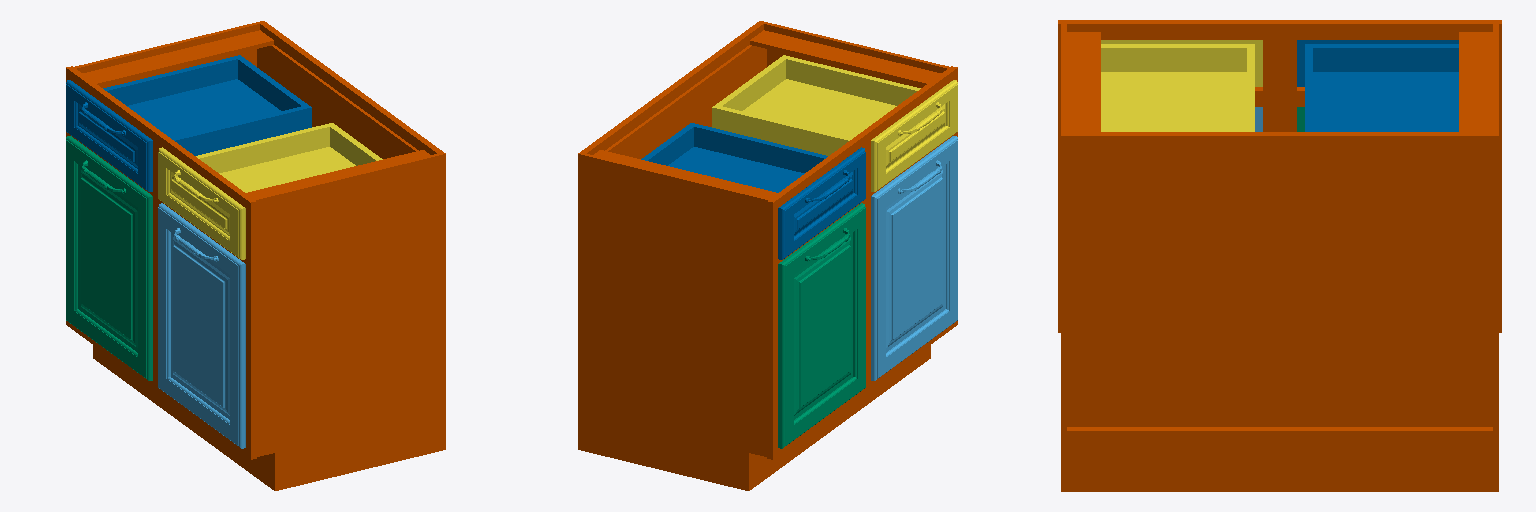
--- What the picture shows (computed from the rendered views, not written in the file) ---
3 views of the same robot in one strip: view 1: azimuth 30°, elevation 25°; view 2: azimuth 150°, elevation 25°; view 3: azimuth 270°, elevation 25° (orthographic).
Model partnet_11ee3844cf96c7194da5feafe6f1c8fc with 6 links and 5 joints (1 revolute, 4 fixed), rooted at base, posed every joint at zero.
Links seen in each view (by area): view 1: link_4, link_3, link_0, link_1, link_2; view 2: link_4, link_2, link_1, link_0, link_3; view 3: link_4, link_2, link_3.
Link boxes in pixels (<box>): link_4: <box>66,21,445,490</box>; link_3: <box>66,55,311,191</box>; link_0: <box>158,203,245,448</box>; link_1: <box>66,136,152,380</box>; link_2: <box>158,123,382,259</box>; link_4: <box>578,21,957,490</box>; link_2: <box>712,55,957,191</box>; link_1: <box>778,203,865,448</box>; link_0: <box>871,136,957,380</box>; link_3: <box>641,123,865,259</box>; link_4: <box>1058,20,1501,491</box>; link_2: <box>1101,40,1262,131</box>; link_3: <box>1297,40,1458,131</box>.
Size in the robot's own frame: 0.9405 by 1.4 by 1.24 metres.
97 mesh visuals loaded from 97 distinct referenced files (97 OBJ).

The robot description file, URDF, robot "partnet_11ee3844cf96c7194da5feafe6f1c8fc":
<?xml version="1.0" ?>
<robot name="partnet_11ee3844cf96c7194da5feafe6f1c8fc">
	<link name="base"/>
	<link name="link_0">
		<visual name="cabinet_door_surface-31">
			<origin xyz="-0.6437806629118026 -0.528850018978119 -0.41145240527491317"/>
			<geometry>
				<mesh filename="textured_objs/original-117.obj"/>
			</geometry>
		</visual>
		<visual name="cabinet_door_surface-31">
			<origin xyz="-0.6437806629118026 -0.528850018978119 -0.41145240527491317"/>
			<geometry>
				<mesh filename="textured_objs/original-113.obj"/>
			</geometry>
		</visual>
		<visual name="cabinet_door_surface-31">
			<origin xyz="-0.6437806629118026 -0.528850018978119 -0.41145240527491317"/>
			<geometry>
				<mesh filename="textured_objs/original-111.obj"/>
			</geometry>
		</visual>
		<visual name="cabinet_door_surface-31">
			<origin xyz="-0.6437806629118026 -0.528850018978119 -0.41145240527491317"/>
			<geometry>
				<mesh filename="textured_objs/original-107.obj"/>
			</geometry>
		</visual>
		<visual name="cabinet_door_surface-31">
			<origin xyz="-0.6437806629118026 -0.528850018978119 -0.41145240527491317"/>
			<geometry>
				<mesh filename="textured_objs/original-108.obj"/>
			</geometry>
		</visual>
		<visual name="cabinet_door_surface-31">
			<origin xyz="-0.6437806629118026 -0.528850018978119 -0.41145240527491317"/>
			<geometry>
				<mesh filename="textured_objs/original-114.obj"/>
			</geometry>
		</visual>
		<visual name="cabinet_door_surface-31">
			<origin xyz="-0.6437806629118026 -0.528850018978119 -0.41145240527491317"/>
			<geometry>
				<mesh filename="textured_objs/original-110.obj"/>
			</geometry>
		</visual>
		<visual name="cabinet_door_surface-31">
			<origin xyz="-0.6437806629118026 -0.528850018978119 -0.41145240527491317"/>
			<geometry>
				<mesh filename="textured_objs/original-112.obj"/>
			</geometry>
		</visual>
		<visual name="cabinet_door_surface-31">
			<origin xyz="-0.6437806629118026 -0.528850018978119 -0.41145240527491317"/>
			<geometry>
				<mesh filename="textured_objs/original-109.obj"/>
			</geometry>
		</visual>
		<visual name="cabinet_door_surface-31">
			<origin xyz="-0.6437806629118026 -0.528850018978119 -0.41145240527491317"/>
			<geometry>
				<mesh filename="textured_objs/original-116.obj"/>
			</geometry>
		</visual>
		<visual name="handle-32">
			<origin xyz="-0.6437806629118026 -0.528850018978119 -0.41145240527491317"/>
			<geometry>
				<mesh filename="textured_objs/original-125.obj"/>
			</geometry>
		</visual>
		<visual name="handle-32">
			<origin xyz="-0.6437806629118026 -0.528850018978119 -0.41145240527491317"/>
			<geometry>
				<mesh filename="textured_objs/original-124.obj"/>
			</geometry>
		</visual>
		<visual name="handle-32">
			<origin xyz="-0.6437806629118026 -0.528850018978119 -0.41145240527491317"/>
			<geometry>
				<mesh filename="textured_objs/original-123.obj"/>
			</geometry>
		</visual>
		<visual name="handle-32">
			<origin xyz="-0.6437806629118026 -0.528850018978119 -0.41145240527491317"/>
			<geometry>
				<mesh filename="textured_objs/original-121.obj"/>
			</geometry>
		</visual>
		<visual name="handle-32">
			<origin xyz="-0.6437806629118026 -0.528850018978119 -0.41145240527491317"/>
			<geometry>
				<mesh filename="textured_objs/original-120.obj"/>
			</geometry>
		</visual>
		<collision>
			<origin xyz="-0.6437806629118026 -0.528850018978119 -0.41145240527491317"/>
			<geometry>
				<mesh filename="textured_objs/original-117.obj"/>
			</geometry>
		</collision>
		<collision>
			<origin xyz="-0.6437806629118026 -0.528850018978119 -0.41145240527491317"/>
			<geometry>
				<mesh filename="textured_objs/original-113.obj"/>
			</geometry>
		</collision>
		<collision>
			<origin xyz="-0.6437806629118026 -0.528850018978119 -0.41145240527491317"/>
			<geometry>
				<mesh filename="textured_objs/original-111.obj"/>
			</geometry>
		</collision>
		<collision>
			<origin xyz="-0.6437806629118026 -0.528850018978119 -0.41145240527491317"/>
			<geometry>
				<mesh filename="textured_objs/original-107.obj"/>
			</geometry>
		</collision>
		<collision>
			<origin xyz="-0.6437806629118026 -0.528850018978119 -0.41145240527491317"/>
			<geometry>
				<mesh filename="textured_objs/original-108.obj"/>
			</geometry>
		</collision>
		<collision>
			<origin xyz="-0.6437806629118026 -0.528850018978119 -0.41145240527491317"/>
			<geometry>
				<mesh filename="textured_objs/original-114.obj"/>
			</geometry>
		</collision>
		<collision>
			<origin xyz="-0.6437806629118026 -0.528850018978119 -0.41145240527491317"/>
			<geometry>
				<mesh filename="textured_objs/original-110.obj"/>
			</geometry>
		</collision>
		<collision>
			<origin xyz="-0.6437806629118026 -0.528850018978119 -0.41145240527491317"/>
			<geometry>
				<mesh filename="textured_objs/original-112.obj"/>
			</geometry>
		</collision>
		<collision>
			<origin xyz="-0.6437806629118026 -0.528850018978119 -0.41145240527491317"/>
			<geometry>
				<mesh filename="textured_objs/original-109.obj"/>
			</geometry>
		</collision>
		<collision>
			<origin xyz="-0.6437806629118026 -0.528850018978119 -0.41145240527491317"/>
			<geometry>
				<mesh filename="textured_objs/original-116.obj"/>
			</geometry>
		</collision>
		<collision>
			<origin xyz="-0.6437806629118026 -0.528850018978119 -0.41145240527491317"/>
			<geometry>
				<mesh filename="textured_objs/original-125.obj"/>
			</geometry>
		</collision>
		<collision>
			<origin xyz="-0.6437806629118026 -0.528850018978119 -0.41145240527491317"/>
			<geometry>
				<mesh filename="textured_objs/original-124.obj"/>
			</geometry>
		</collision>
		<collision>
			<origin xyz="-0.6437806629118026 -0.528850018978119 -0.41145240527491317"/>
			<geometry>
				<mesh filename="textured_objs/original-123.obj"/>
			</geometry>
		</collision>
		<collision>
			<origin xyz="-0.6437806629118026 -0.528850018978119 -0.41145240527491317"/>
			<geometry>
				<mesh filename="textured_objs/original-121.obj"/>
			</geometry>
		</collision>
		<collision>
			<origin xyz="-0.6437806629118026 -0.528850018978119 -0.41145240527491317"/>
			<geometry>
				<mesh filename="textured_objs/original-120.obj"/>
			</geometry>
		</collision>
	</link>
	<joint name="joint_0" type="revolute">
		<origin xyz="0.6437806629118026 0.528850018978119 0.41145240527491317"/>
		<axis xyz="0 1 0"/>
		<child link="link_0"/>
		<parent link="link_4"/>
		<limit lower="0.0" upper="1.5707963267948966"/>
	</joint>
	<link name="link_1">
		<visual name="cabinet_door_surface-29">
			<origin xyz="0.6710703733483504 -0.5288500189781189 -0.4190452834267912"/>
			<geometry>
				<mesh filename="textured_objs/original-96.obj"/>
			</geometry>
		</visual>
		<visual name="cabinet_door_surface-29">
			<origin xyz="0.6710703733483504 -0.5288500189781189 -0.4190452834267912"/>
			<geometry>
				<mesh filename="textured_objs/original-88.obj"/>
			</geometry>
		</visual>
		<visual name="cabinet_door_surface-29">
			<origin xyz="0.6710703733483504 -0.5288500189781189 -0.4190452834267912"/>
			<geometry>
				<mesh filename="textured_objs/original-91.obj"/>
			</geometry>
		</visual>
		<visual name="cabinet_door_surface-29">
			<origin xyz="0.6710703733483504 -0.5288500189781189 -0.4190452834267912"/>
			<geometry>
				<mesh filename="textured_objs/original-93.obj"/>
			</geometry>
		</visual>
		<visual name="cabinet_door_surface-29">
			<origin xyz="0.6710703733483504 -0.5288500189781189 -0.4190452834267912"/>
			<geometry>
				<mesh filename="textured_objs/original-87.obj"/>
			</geometry>
		</visual>
		<visual name="cabinet_door_surface-29">
			<origin xyz="0.6710703733483504 -0.5288500189781189 -0.4190452834267912"/>
			<geometry>
				<mesh filename="textured_objs/original-94.obj"/>
			</geometry>
		</visual>
		<visual name="cabinet_door_surface-29">
			<origin xyz="0.6710703733483504 -0.5288500189781189 -0.4190452834267912"/>
			<geometry>
				<mesh filename="textured_objs/original-92.obj"/>
			</geometry>
		</visual>
		<visual name="cabinet_door_surface-29">
			<origin xyz="0.6710703733483504 -0.5288500189781189 -0.4190452834267912"/>
			<geometry>
				<mesh filename="textured_objs/original-90.obj"/>
			</geometry>
		</visual>
		<visual name="cabinet_door_surface-29">
			<origin xyz="0.6710703733483504 -0.5288500189781189 -0.4190452834267912"/>
			<geometry>
				<mesh filename="textured_objs/original-89.obj"/>
			</geometry>
		</visual>
		<visual name="cabinet_door_surface-29">
			<origin xyz="0.6710703733483504 -0.5288500189781189 -0.4190452834267912"/>
			<geometry>
				<mesh filename="textured_objs/original-97.obj"/>
			</geometry>
		</visual>
		<visual name="handle-30">
			<origin xyz="0.6710703733483504 -0.5288500189781189 -0.4190452834267912"/>
			<geometry>
				<mesh filename="textured_objs/original-105.obj"/>
			</geometry>
		</visual>
		<visual name="handle-30">
			<origin xyz="0.6710703733483504 -0.5288500189781189 -0.4190452834267912"/>
			<geometry>
				<mesh filename="textured_objs/original-101.obj"/>
			</geometry>
		</visual>
		<visual name="handle-30">
			<origin xyz="0.6710703733483504 -0.5288500189781189 -0.4190452834267912"/>
			<geometry>
				<mesh filename="textured_objs/original-100.obj"/>
			</geometry>
		</visual>
		<visual name="handle-30">
			<origin xyz="0.6710703733483504 -0.5288500189781189 -0.4190452834267912"/>
			<geometry>
				<mesh filename="textured_objs/original-104.obj"/>
			</geometry>
		</visual>
		<visual name="handle-30">
			<origin xyz="0.6710703733483504 -0.5288500189781189 -0.4190452834267912"/>
			<geometry>
				<mesh filename="textured_objs/original-103.obj"/>
			</geometry>
		</visual>
		<collision>
			<origin xyz="0.6710703733483504 -0.5288500189781189 -0.4190452834267912"/>
			<geometry>
				<mesh filename="textured_objs/original-96.obj"/>
			</geometry>
		</collision>
		<collision>
			<origin xyz="0.6710703733483504 -0.5288500189781189 -0.4190452834267912"/>
			<geometry>
				<mesh filename="textured_objs/original-88.obj"/>
			</geometry>
		</collision>
		<collision>
			<origin xyz="0.6710703733483504 -0.5288500189781189 -0.4190452834267912"/>
			<geometry>
				<mesh filename="textured_objs/original-91.obj"/>
			</geometry>
		</collision>
		<collision>
			<origin xyz="0.6710703733483504 -0.5288500189781189 -0.4190452834267912"/>
			<geometry>
				<mesh filename="textured_objs/original-93.obj"/>
			</geometry>
		</collision>
		<collision>
			<origin xyz="0.6710703733483504 -0.5288500189781189 -0.4190452834267912"/>
			<geometry>
				<mesh filename="textured_objs/original-87.obj"/>
			</geometry>
		</collision>
		<collision>
			<origin xyz="0.6710703733483504 -0.5288500189781189 -0.4190452834267912"/>
			<geometry>
				<mesh filename="textured_objs/original-94.obj"/>
			</geometry>
		</collision>
		<collision>
			<origin xyz="0.6710703733483504 -0.5288500189781189 -0.4190452834267912"/>
			<geometry>
				<mesh filename="textured_objs/original-92.obj"/>
			</geometry>
		</collision>
		<collision>
			<origin xyz="0.6710703733483504 -0.5288500189781189 -0.4190452834267912"/>
			<geometry>
				<mesh filename="textured_objs/original-90.obj"/>
			</geometry>
		</collision>
		<collision>
			<origin xyz="0.6710703733483504 -0.5288500189781189 -0.4190452834267912"/>
			<geometry>
				<mesh filename="textured_objs/original-89.obj"/>
			</geometry>
		</collision>
		<collision>
			<origin xyz="0.6710703733483504 -0.5288500189781189 -0.4190452834267912"/>
			<geometry>
				<mesh filename="textured_objs/original-97.obj"/>
			</geometry>
		</collision>
		<collision>
			<origin xyz="0.6710703733483504 -0.5288500189781189 -0.4190452834267912"/>
			<geometry>
				<mesh filename="textured_objs/original-105.obj"/>
			</geometry>
		</collision>
		<collision>
			<origin xyz="0.6710703733483504 -0.5288500189781189 -0.4190452834267912"/>
			<geometry>
				<mesh filename="textured_objs/original-101.obj"/>
			</geometry>
		</collision>
		<collision>
			<origin xyz="0.6710703733483504 -0.5288500189781189 -0.4190452834267912"/>
			<geometry>
				<mesh filename="textured_objs/original-100.obj"/>
			</geometry>
		</collision>
		<collision>
			<origin xyz="0.6710703733483504 -0.5288500189781189 -0.4190452834267912"/>
			<geometry>
				<mesh filename="textured_objs/original-104.obj"/>
			</geometry>
		</collision>
		<collision>
			<origin xyz="0.6710703733483504 -0.5288500189781189 -0.4190452834267912"/>
			<geometry>
				<mesh filename="textured_objs/original-103.obj"/>
			</geometry>
		</collision>
	</link>
	<joint name="joint_1" type="fixed">
		<origin xyz="-0.6710703733483504 0.5288500189781189 0.4190452834267912"/>
		<axis xyz="0 -1 0"/>
		<child link="link_1"/>
		<parent link="link_4"/>
		<limit lower="-0.0" upper="1.5707963267948966"/>
	</joint>
	<link name="link_2">
		<visual name="drawer_front-24">
			<origin xyz="-0.3641338292090779 -0.4258260948893341 0.41709399223327637"/>
			<geometry>
				<mesh filename="textured_objs/original-42.obj"/>
			</geometry>
		</visual>
		<visual name="drawer_front-24">
			<origin xyz="-0.3641338292090779 -0.4258260948893341 0.41709399223327637"/>
			<geometry>
				<mesh filename="textured_objs/original-40.obj"/>
			</geometry>
		</visual>
		<visual name="drawer_front-24">
			<origin xyz="-0.3641338292090779 -0.4258260948893341 0.41709399223327637"/>
			<geometry>
				<mesh filename="textured_objs/original-37.obj"/>
			</geometry>
		</visual>
		<visual name="drawer_front-24">
			<origin xyz="-0.3641338292090779 -0.4258260948893341 0.41709399223327637"/>
			<geometry>
				<mesh filename="textured_objs/original-39.obj"/>
			</geometry>
		</visual>
		<visual name="drawer_front-24">
			<origin xyz="-0.3641338292090779 -0.4258260948893341 0.41709399223327637"/>
			<geometry>
				<mesh filename="textured_objs/original-38.obj"/>
			</geometry>
		</visual>
		<visual name="drawer_front-24">
			<origin xyz="-0.3641338292090779 -0.4258260948893341 0.41709399223327637"/>
			<geometry>
				<mesh filename="textured_objs/original-44.obj"/>
			</geometry>
		</visual>
		<visual name="drawer_front-24">
			<origin xyz="-0.3641338292090779 -0.4258260948893341 0.41709399223327637"/>
			<geometry>
				<mesh filename="textured_objs/original-41.obj"/>
			</geometry>
		</visual>
		<visual name="drawer_front-24">
			<origin xyz="-0.3641338292090779 -0.4258260948893341 0.41709399223327637"/>
			<geometry>
				<mesh filename="textured_objs/original-43.obj"/>
			</geometry>
		</visual>
		<visual name="drawer_front-24">
			<origin xyz="-0.3641338292090779 -0.4258260948893341 0.41709399223327637"/>
			<geometry>
				<mesh filename="textured_objs/original-46.obj"/>
			</geometry>
		</visual>
		<visual name="drawer_front-24">
			<origin xyz="-0.3641338292090779 -0.4258260948893341 0.41709399223327637"/>
			<geometry>
				<mesh filename="textured_objs/original-47.obj"/>
			</geometry>
		</visual>
		<visual name="drawer_front-24">
			<origin xyz="-0.3641338292090779 -0.4258260948893341 0.41709399223327637"/>
			<geometry>
				<mesh filename="textured_objs/original-29.obj"/>
			</geometry>
		</visual>
		<visual name="drawer_side-25">
			<origin xyz="-0.3641338292090779 -0.4258260948893341 0.41709399223327637"/>
			<geometry>
				<mesh filename="textured_objs/original-28.obj"/>
			</geometry>
		</visual>
		<visual name="drawer_side-26">
			<origin xyz="-0.3641338292090779 -0.4258260948893341 0.41709399223327637"/>
			<geometry>
				<mesh filename="textured_objs/original-33.obj"/>
			</geometry>
		</visual>
		<visual name="drawer_side-26">
			<origin xyz="-0.3641338292090779 -0.4258260948893341 0.41709399223327637"/>
			<geometry>
				<mesh filename="textured_objs/original-35.obj"/>
			</geometry>
		</visual>
		<visual name="drawer_back-27">
			<origin xyz="-0.3641338292090779 -0.4258260948893341 0.41709399223327637"/>
			<geometry>
				<mesh filename="textured_objs/original-34.obj"/>
			</geometry>
		</visual>
		<visual name="drawer_bottom-28">
			<origin xyz="-0.3641338292090779 -0.4258260948893341 0.41709399223327637"/>
			<geometry>
				<mesh filename="textured_objs/original-32.obj"/>
			</geometry>
		</visual>
		<visual name="drawer_bottom-28">
			<origin xyz="-0.3641338292090779 -0.4258260948893341 0.41709399223327637"/>
			<geometry>
				<mesh filename="textured_objs/original-31.obj"/>
			</geometry>
		</visual>
		<visual name="handle-23">
			<origin xyz="-0.3641338292090779 -0.4258260948893341 0.41709399223327637"/>
			<geometry>
				<mesh filename="textured_objs/original-55.obj"/>
			</geometry>
		</visual>
		<visual name="handle-23">
			<origin xyz="-0.3641338292090779 -0.4258260948893341 0.41709399223327637"/>
			<geometry>
				<mesh filename="textured_objs/original-51.obj"/>
			</geometry>
		</visual>
		<visual name="handle-23">
			<origin xyz="-0.3641338292090779 -0.4258260948893341 0.41709399223327637"/>
			<geometry>
				<mesh filename="textured_objs/original-50.obj"/>
			</geometry>
		</visual>
		<visual name="handle-23">
			<origin xyz="-0.3641338292090779 -0.4258260948893341 0.41709399223327637"/>
			<geometry>
				<mesh filename="textured_objs/original-54.obj"/>
			</geometry>
		</visual>
		<visual name="handle-23">
			<origin xyz="-0.3641338292090779 -0.4258260948893341 0.41709399223327637"/>
			<geometry>
				<mesh filename="textured_objs/original-53.obj"/>
			</geometry>
		</visual>
		<collision>
			<origin xyz="-0.3641338292090779 -0.4258260948893341 0.41709399223327637"/>
			<geometry>
				<mesh filename="textured_objs/original-42.obj"/>
			</geometry>
		</collision>
		<collision>
			<origin xyz="-0.3641338292090779 -0.4258260948893341 0.41709399223327637"/>
			<geometry>
				<mesh filename="textured_objs/original-40.obj"/>
			</geometry>
		</collision>
		<collision>
			<origin xyz="-0.3641338292090779 -0.4258260948893341 0.41709399223327637"/>
			<geometry>
				<mesh filename="textured_objs/original-37.obj"/>
			</geometry>
		</collision>
		<collision>
			<origin xyz="-0.3641338292090779 -0.4258260948893341 0.41709399223327637"/>
			<geometry>
				<mesh filename="textured_objs/original-39.obj"/>
			</geometry>
		</collision>
		<collision>
			<origin xyz="-0.3641338292090779 -0.4258260948893341 0.41709399223327637"/>
			<geometry>
				<mesh filename="textured_objs/original-38.obj"/>
			</geometry>
		</collision>
		<collision>
			<origin xyz="-0.3641338292090779 -0.4258260948893341 0.41709399223327637"/>
			<geometry>
				<mesh filename="textured_objs/original-44.obj"/>
			</geometry>
		</collision>
		<collision>
			<origin xyz="-0.3641338292090779 -0.4258260948893341 0.41709399223327637"/>
			<geometry>
				<mesh filename="textured_objs/original-41.obj"/>
			</geometry>
		</collision>
		<collision>
			<origin xyz="-0.3641338292090779 -0.4258260948893341 0.41709399223327637"/>
			<geometry>
				<mesh filename="textured_objs/original-43.obj"/>
			</geometry>
		</collision>
		<collision>
			<origin xyz="-0.3641338292090779 -0.4258260948893341 0.41709399223327637"/>
			<geometry>
				<mesh filename="textured_objs/original-46.obj"/>
			</geometry>
		</collision>
		<collision>
			<origin xyz="-0.3641338292090779 -0.4258260948893341 0.41709399223327637"/>
			<geometry>
				<mesh filename="textured_objs/original-47.obj"/>
			</geometry>
		</collision>
		<collision>
			<origin xyz="-0.3641338292090779 -0.4258260948893341 0.41709399223327637"/>
			<geometry>
				<mesh filename="textured_objs/original-29.obj"/>
			</geometry>
		</collision>
		<collision>
			<origin xyz="-0.3641338292090779 -0.4258260948893341 0.41709399223327637"/>
			<geometry>
				<mesh filename="textured_objs/original-28.obj"/>
			</geometry>
		</collision>
		<collision>
			<origin xyz="-0.3641338292090779 -0.4258260948893341 0.41709399223327637"/>
			<geometry>
				<mesh filename="textured_objs/original-33.obj"/>
			</geometry>
		</collision>
		<collision>
			<origin xyz="-0.3641338292090779 -0.4258260948893341 0.41709399223327637"/>
			<geometry>
				<mesh filename="textured_objs/original-35.obj"/>
			</geometry>
		</collision>
		<collision>
			<origin xyz="-0.3641338292090779 -0.4258260948893341 0.41709399223327637"/>
			<geometry>
				<mesh filename="textured_objs/original-34.obj"/>
			</geometry>
		</collision>
		<collision>
			<origin xyz="-0.3641338292090779 -0.4258260948893341 0.41709399223327637"/>
			<geometry>
				<mesh filename="textured_objs/original-32.obj"/>
			</geometry>
		</collision>
		<collision>
			<origin xyz="-0.3641338292090779 -0.4258260948893341 0.41709399223327637"/>
			<geometry>
				<mesh filename="textured_objs/original-31.obj"/>
			</geometry>
		</collision>
		<collision>
			<origin xyz="-0.3641338292090779 -0.4258260948893341 0.41709399223327637"/>
			<geometry>
				<mesh filename="textured_objs/original-55.obj"/>
			</geometry>
		</collision>
		<collision>
			<origin xyz="-0.3641338292090779 -0.4258260948893341 0.41709399223327637"/>
			<geometry>
				<mesh filename="textured_objs/original-51.obj"/>
			</geometry>
		</collision>
		<collision>
			<origin xyz="-0.3641338292090779 -0.4258260948893341 0.41709399223327637"/>
			<geometry>
				<mesh filename="textured_objs/original-50.obj"/>
			</geometry>
		</collision>
		<collision>
			<origin xyz="-0.3641338292090779 -0.4258260948893341 0.41709399223327637"/>
			<geometry>
				<mesh filename="textured_objs/original-54.obj"/>
			</geometry>
		</collision>
		<collision>
			<origin xyz="-0.3641338292090779 -0.4258260948893341 0.41709399223327637"/>
			<geometry>
				<mesh filename="textured_objs/original-53.obj"/>
			</geometry>
		</collision>
	</link>
	<joint name="joint_2" type="fixed">
		<origin xyz="0.3641338292090779 0.4258260948893341 -0.41709399223327637"/>
		<axis xyz="0 0 1"/>
		<child link="link_2"/>
		<parent link="link_4"/>
		<limit lower="0" upper="0.6400000000000001"/>
	</joint>
	<link name="link_3">
		<visual name="drawer_front-17">
			<origin xyz="0.35450746886792467 -0.3970021093508832 0.4170939922332757"/>
			<geometry>
				<mesh filename="textured_objs/original-59.obj"/>
			</geometry>
		</visual>
		<visual name="drawer_front-17">
			<origin xyz="0.35450746886792467 -0.3970021093508832 0.4170939922332757"/>
			<geometry>
				<mesh filename="textured_objs/original-71.obj"/>
			</geometry>
		</visual>
		<visual name="drawer_front-17">
			<origin xyz="0.35450746886792467 -0.3970021093508832 0.4170939922332757"/>
			<geometry>
				<mesh filename="textured_objs/original-68.obj"/>
			</geometry>
		</visual>
		<visual name="drawer_front-17">
			<origin xyz="0.35450746886792467 -0.3970021093508832 0.4170939922332757"/>
			<geometry>
				<mesh filename="textured_objs/original-67.obj"/>
			</geometry>
		</visual>
		<visual name="drawer_front-17">
			<origin xyz="0.35450746886792467 -0.3970021093508832 0.4170939922332757"/>
			<geometry>
				<mesh filename="textured_objs/original-70.obj"/>
			</geometry>
		</visual>
		<visual name="drawer_front-17">
			<origin xyz="0.35450746886792467 -0.3970021093508832 0.4170939922332757"/>
			<geometry>
				<mesh filename="textured_objs/original-73.obj"/>
			</geometry>
		</visual>
		<visual name="drawer_front-17">
			<origin xyz="0.35450746886792467 -0.3970021093508832 0.4170939922332757"/>
			<geometry>
				<mesh filename="textured_objs/original-72.obj"/>
			</geometry>
		</visual>
		<visual name="drawer_front-17">
			<origin xyz="0.35450746886792467 -0.3970021093508832 0.4170939922332757"/>
			<geometry>
				<mesh filename="textured_objs/original-69.obj"/>
			</geometry>
		</visual>
		<visual name="drawer_front-17">
			<origin xyz="0.35450746886792467 -0.3970021093508832 0.4170939922332757"/>
			<geometry>
				<mesh filename="textured_objs/original-74.obj"/>
			</geometry>
		</visual>
		<visual name="drawer_front-17">
			<origin xyz="0.35450746886792467 -0.3970021093508832 0.4170939922332757"/>
			<geometry>
				<mesh filename="textured_objs/original-76.obj"/>
			</geometry>
		</visual>
		<visual name="drawer_front-17">
			<origin xyz="0.35450746886792467 -0.3970021093508832 0.4170939922332757"/>
			<geometry>
				<mesh filename="textured_objs/original-77.obj"/>
			</geometry>
		</visual>
		<visual name="drawer_side-18">
			<origin xyz="0.35450746886792467 -0.3970021093508832 0.4170939922332757"/>
			<geometry>
				<mesh filename="textured_objs/original-58.obj"/>
			</geometry>
		</visual>
		<visual name="drawer_side-19">
			<origin xyz="0.35450746886792467 -0.3970021093508832 0.4170939922332757"/>
			<geometry>
				<mesh filename="textured_objs/original-63.obj"/>
			</geometry>
		</visual>
		<visual name="drawer_side-19">
			<origin xyz="0.35450746886792467 -0.3970021093508832 0.4170939922332757"/>
			<geometry>
				<mesh filename="textured_objs/original-65.obj"/>
			</geometry>
		</visual>
		<visual name="drawer_back-20">
			<origin xyz="0.35450746886792467 -0.3970021093508832 0.4170939922332757"/>
			<geometry>
				<mesh filename="textured_objs/original-64.obj"/>
			</geometry>
		</visual>
		<visual name="drawer_bottom-21">
			<origin xyz="0.35450746886792467 -0.3970021093508832 0.4170939922332757"/>
			<geometry>
				<mesh filename="textured_objs/original-62.obj"/>
			</geometry>
		</visual>
		<visual name="drawer_bottom-21">
			<origin xyz="0.35450746886792467 -0.3970021093508832 0.4170939922332757"/>
			<geometry>
				<mesh filename="textured_objs/original-61.obj"/>
			</geometry>
		</visual>
		<visual name="handle-16">
			<origin xyz="0.35450746886792467 -0.3970021093508832 0.4170939922332757"/>
			<geometry>
				<mesh filename="textured_objs/original-85.obj"/>
			</geometry>
		</visual>
		<visual name="handle-16">
			<origin xyz="0.35450746886792467 -0.3970021093508832 0.4170939922332757"/>
			<geometry>
				<mesh filename="textured_objs/original-84.obj"/>
			</geometry>
		</visual>
		<visual name="handle-16">
			<origin xyz="0.35450746886792467 -0.3970021093508832 0.4170939922332757"/>
			<geometry>
				<mesh filename="textured_objs/original-83.obj"/>
			</geometry>
		</visual>
		<visual name="handle-16">
			<origin xyz="0.35450746886792467 -0.3970021093508832 0.4170939922332757"/>
			<geometry>
				<mesh filename="textured_objs/original-81.obj"/>
			</geometry>
		</visual>
		<visual name="handle-16">
			<origin xyz="0.35450746886792467 -0.3970021093508832 0.4170939922332757"/>
			<geometry>
				<mesh filename="textured_objs/original-80.obj"/>
			</geometry>
		</visual>
		<collision>
			<origin xyz="0.35450746886792467 -0.3970021093508832 0.4170939922332757"/>
			<geometry>
				<mesh filename="textured_objs/original-59.obj"/>
			</geometry>
		</collision>
		<collision>
			<origin xyz="0.35450746886792467 -0.3970021093508832 0.4170939922332757"/>
			<geometry>
				<mesh filename="textured_objs/original-71.obj"/>
			</geometry>
		</collision>
		<collision>
			<origin xyz="0.35450746886792467 -0.3970021093508832 0.4170939922332757"/>
			<geometry>
				<mesh filename="textured_objs/original-68.obj"/>
			</geometry>
		</collision>
		<collision>
			<origin xyz="0.35450746886792467 -0.3970021093508832 0.4170939922332757"/>
			<geometry>
				<mesh filename="textured_objs/original-67.obj"/>
			</geometry>
		</collision>
		<collision>
			<origin xyz="0.35450746886792467 -0.3970021093508832 0.4170939922332757"/>
			<geometry>
				<mesh filename="textured_objs/original-70.obj"/>
			</geometry>
		</collision>
		<collision>
			<origin xyz="0.35450746886792467 -0.3970021093508832 0.4170939922332757"/>
			<geometry>
				<mesh filename="textured_objs/original-73.obj"/>
			</geometry>
		</collision>
		<collision>
			<origin xyz="0.35450746886792467 -0.3970021093508832 0.4170939922332757"/>
			<geometry>
				<mesh filename="textured_objs/original-72.obj"/>
			</geometry>
		</collision>
		<collision>
			<origin xyz="0.35450746886792467 -0.3970021093508832 0.4170939922332757"/>
			<geometry>
				<mesh filename="textured_objs/original-69.obj"/>
			</geometry>
		</collision>
		<collision>
			<origin xyz="0.35450746886792467 -0.3970021093508832 0.4170939922332757"/>
			<geometry>
				<mesh filename="textured_objs/original-74.obj"/>
			</geometry>
		</collision>
		<collision>
			<origin xyz="0.35450746886792467 -0.3970021093508832 0.4170939922332757"/>
			<geometry>
				<mesh filename="textured_objs/original-76.obj"/>
			</geometry>
		</collision>
		<collision>
			<origin xyz="0.35450746886792467 -0.3970021093508832 0.4170939922332757"/>
			<geometry>
				<mesh filename="textured_objs/original-77.obj"/>
			</geometry>
		</collision>
		<collision>
			<origin xyz="0.35450746886792467 -0.3970021093508832 0.4170939922332757"/>
			<geometry>
				<mesh filename="textured_objs/original-58.obj"/>
			</geometry>
		</collision>
		<collision>
			<origin xyz="0.35450746886792467 -0.3970021093508832 0.4170939922332757"/>
			<geometry>
				<mesh filename="textured_objs/original-63.obj"/>
			</geometry>
		</collision>
		<collision>
			<origin xyz="0.35450746886792467 -0.3970021093508832 0.4170939922332757"/>
			<geometry>
				<mesh filename="textured_objs/original-65.obj"/>
			</geometry>
		</collision>
		<collision>
			<origin xyz="0.35450746886792467 -0.3970021093508832 0.4170939922332757"/>
			<geometry>
				<mesh filename="textured_objs/original-64.obj"/>
			</geometry>
		</collision>
		<collision>
			<origin xyz="0.35450746886792467 -0.3970021093508832 0.4170939922332757"/>
			<geometry>
				<mesh filename="textured_objs/original-62.obj"/>
			</geometry>
		</collision>
		<collision>
			<origin xyz="0.35450746886792467 -0.3970021093508832 0.4170939922332757"/>
			<geometry>
				<mesh filename="textured_objs/original-61.obj"/>
			</geometry>
		</collision>
		<collision>
			<origin xyz="0.35450746886792467 -0.3970021093508832 0.4170939922332757"/>
			<geometry>
				<mesh filename="textured_objs/original-85.obj"/>
			</geometry>
		</collision>
		<collision>
			<origin xyz="0.35450746886792467 -0.3970021093508832 0.4170939922332757"/>
			<geometry>
				<mesh filename="textured_objs/original-84.obj"/>
			</geometry>
		</collision>
		<collision>
			<origin xyz="0.35450746886792467 -0.3970021093508832 0.4170939922332757"/>
			<geometry>
				<mesh filename="textured_objs/original-83.obj"/>
			</geometry>
		</collision>
		<collision>
			<origin xyz="0.35450746886792467 -0.3970021093508832 0.4170939922332757"/>
			<geometry>
				<mesh filename="textured_objs/original-81.obj"/>
			</geometry>
		</collision>
		<collision>
			<origin xyz="0.35450746886792467 -0.3970021093508832 0.4170939922332757"/>
			<geometry>
				<mesh filename="textured_objs/original-80.obj"/>
			</geometry>
		</collision>
	</link>
	<joint name="joint_3" type="fixed">
		<origin xyz="-0.35450746886792467 0.3970021093508832 -0.4170939922332757"/>
		<axis xyz="0 0 1"/>
		<child link="link_3"/>
		<parent link="link_4"/>
		<limit lower="0" upper="0.6400000000000001"/>
	</joint>
	<link name="link_4">
		<visual name="shelf-10">
			<origin xyz="0 0 0"/>
			<geometry>
				<mesh filename="textured_objs/original-2.obj"/>
			</geometry>
		</visual>
		<visual name="shelf-10">
			<origin xyz="0 0 0"/>
			<geometry>
				<mesh filename="textured_objs/original-25.obj"/>
			</geometry>
		</visual>
		<visual name="vertical_side_panel-43">
			<origin xyz="0 0 0"/>
			<geometry>
				<mesh filename="textured_objs/original-12.obj"/>
			</geometry>
		</visual>
		<visual name="vertical_side_panel-44">
			<origin xyz="0 0 0"/>
			<geometry>
				<mesh filename="textured_objs/original-16.obj"/>
			</geometry>
		</visual>
		<visual name="back_panel-45">
			<origin xyz="0 0 0"/>
			<geometry>
				<mesh filename="textured_objs/original-6.obj"/>
			</geometry>
		</visual>
		<visual name="back_panel-45">
			<origin xyz="0 0 0"/>
			<geometry>
				<mesh filename="textured_objs/original-126.obj"/>
			</geometry>
		</visual>
		<visual name="bottom_panel-46">
			<origin xyz="0 0 0"/>
			<geometry>
				<mesh filename="textured_objs/original-3.obj"/>
			</geometry>
		</visual>
		<visual name="frame_vertical_bar-47">
			<origin xyz="0 0 0"/>
			<geometry>
				<mesh filename="textured_objs/original-8.obj"/>
			</geometry>
		</visual>
		<visual name="frame_vertical_bar-48">
			<origin xyz="0 0 0"/>
			<geometry>
				<mesh filename="textured_objs/original-18.obj"/>
			</geometry>
		</visual>
		<visual name="frame_vertical_bar-48">
			<origin xyz="0 0 0"/>
			<geometry>
				<mesh filename="textured_objs/original-24.obj"/>
			</geometry>
		</visual>
		<visual name="frame_vertical_bar-49">
			<origin xyz="0 0 0"/>
			<geometry>
				<mesh filename="textured_objs/original-15.obj"/>
			</geometry>
		</visual>
		<visual name="frame_horizontal_bar-50">
			<origin xyz="0 0 0"/>
			<geometry>
				<mesh filename="textured_objs/original-9.obj"/>
			</geometry>
		</visual>
		<visual name="frame_horizontal_bar-51">
			<origin xyz="0 0 0"/>
			<geometry>
				<mesh filename="textured_objs/original-19.obj"/>
			</geometry>
		</visual>
		<visual name="frame_horizontal_bar-52">
			<origin xyz="0 0 0"/>
			<geometry>
				<mesh filename="textured_objs/original-7.obj"/>
			</geometry>
		</visual>
		<visual name="frame_horizontal_bar-53">
			<origin xyz="0 0 0"/>
			<geometry>
				<mesh filename="textured_objs/original-23.obj"/>
			</geometry>
		</visual>
		<visual name="frame_horizontal_bar-54">
			<origin xyz="0 0 0"/>
			<geometry>
				<mesh filename="textured_objs/original-22.obj"/>
			</geometry>
		</visual>
		<visual name="frame_horizontal_bar-55">
			<origin xyz="0 0 0"/>
			<geometry>
				<mesh filename="textured_objs/original-5.obj"/>
			</geometry>
		</visual>
		<visual name="frame_vertical_bar-56">
			<origin xyz="0 0 0"/>
			<geometry>
				<mesh filename="textured_objs/original-4.obj"/>
			</geometry>
		</visual>
		<visual name="frame_vertical_bar-57">
			<origin xyz="0 0 0"/>
			<geometry>
				<mesh filename="textured_objs/original-11.obj"/>
			</geometry>
		</visual>
		<visual name="base_side_panel-34">
			<origin xyz="0 0 0"/>
			<geometry>
				<mesh filename="textured_objs/original-13.obj"/>
			</geometry>
		</visual>
		<visual name="base_side_panel-35">
			<origin xyz="0 0 0"/>
			<geometry>
				<mesh filename="textured_objs/original-21.obj"/>
			</geometry>
		</visual>
		<visual name="base_side_panel-36">
			<origin xyz="0 0 0"/>
			<geometry>
				<mesh filename="textured_objs/original-17.obj"/>
			</geometry>
		</visual>
		<visual name="base_side_panel-37">
			<origin xyz="0 0 0"/>
			<geometry>
				<mesh filename="textured_objs/original-20.obj"/>
			</geometry>
		</visual>
		<collision>
			<origin xyz="0 0 0"/>
			<geometry>
				<mesh filename="textured_objs/original-2.obj"/>
			</geometry>
		</collision>
		<collision>
			<origin xyz="0 0 0"/>
			<geometry>
				<mesh filename="textured_objs/original-25.obj"/>
			</geometry>
		</collision>
		<collision>
			<origin xyz="0 0 0"/>
			<geometry>
				<mesh filename="textured_objs/original-12.obj"/>
			</geometry>
		</collision>
		<collision>
			<origin xyz="0 0 0"/>
			<geometry>
				<mesh filename="textured_objs/original-16.obj"/>
			</geometry>
		</collision>
		<collision>
			<origin xyz="0 0 0"/>
			<geometry>
				<mesh filename="textured_objs/original-6.obj"/>
			</geometry>
		</collision>
		<collision>
			<origin xyz="0 0 0"/>
			<geometry>
				<mesh filename="textured_objs/original-126.obj"/>
			</geometry>
		</collision>
		<collision>
			<origin xyz="0 0 0"/>
			<geometry>
				<mesh filename="textured_objs/original-3.obj"/>
			</geometry>
		</collision>
		<collision>
			<origin xyz="0 0 0"/>
			<geometry>
				<mesh filename="textured_objs/original-8.obj"/>
			</geometry>
		</collision>
		<collision>
			<origin xyz="0 0 0"/>
			<geometry>
				<mesh filename="textured_objs/original-18.obj"/>
			</geometry>
		</collision>
		<collision>
			<origin xyz="0 0 0"/>
			<geometry>
				<mesh filename="textured_objs/original-24.obj"/>
			</geometry>
		</collision>
		<collision>
			<origin xyz="0 0 0"/>
			<geometry>
				<mesh filename="textured_objs/original-15.obj"/>
			</geometry>
		</collision>
		<collision>
			<origin xyz="0 0 0"/>
			<geometry>
				<mesh filename="textured_objs/original-9.obj"/>
			</geometry>
		</collision>
		<collision>
			<origin xyz="0 0 0"/>
			<geometry>
				<mesh filename="textured_objs/original-19.obj"/>
			</geometry>
		</collision>
		<collision>
			<origin xyz="0 0 0"/>
			<geometry>
				<mesh filename="textured_objs/original-7.obj"/>
			</geometry>
		</collision>
		<collision>
			<origin xyz="0 0 0"/>
			<geometry>
				<mesh filename="textured_objs/original-23.obj"/>
			</geometry>
		</collision>
		<collision>
			<origin xyz="0 0 0"/>
			<geometry>
				<mesh filename="textured_objs/original-22.obj"/>
			</geometry>
		</collision>
		<collision>
			<origin xyz="0 0 0"/>
			<geometry>
				<mesh filename="textured_objs/original-5.obj"/>
			</geometry>
		</collision>
		<collision>
			<origin xyz="0 0 0"/>
			<geometry>
				<mesh filename="textured_objs/original-4.obj"/>
			</geometry>
		</collision>
		<collision>
			<origin xyz="0 0 0"/>
			<geometry>
				<mesh filename="textured_objs/original-11.obj"/>
			</geometry>
		</collision>
		<collision>
			<origin xyz="0 0 0"/>
			<geometry>
				<mesh filename="textured_objs/original-13.obj"/>
			</geometry>
		</collision>
		<collision>
			<origin xyz="0 0 0"/>
			<geometry>
				<mesh filename="textured_objs/original-21.obj"/>
			</geometry>
		</collision>
		<collision>
			<origin xyz="0 0 0"/>
			<geometry>
				<mesh filename="textured_objs/original-17.obj"/>
			</geometry>
		</collision>
		<collision>
			<origin xyz="0 0 0"/>
			<geometry>
				<mesh filename="textured_objs/original-20.obj"/>
			</geometry>
		</collision>
	</link>
	<joint name="joint_4" type="fixed">
		<origin rpy="1.570796326794897 0 -1.570796326794897" xyz="0 0 0"/>
		<child link="link_4"/>
		<parent link="base"/>
	</joint>
</robot>
